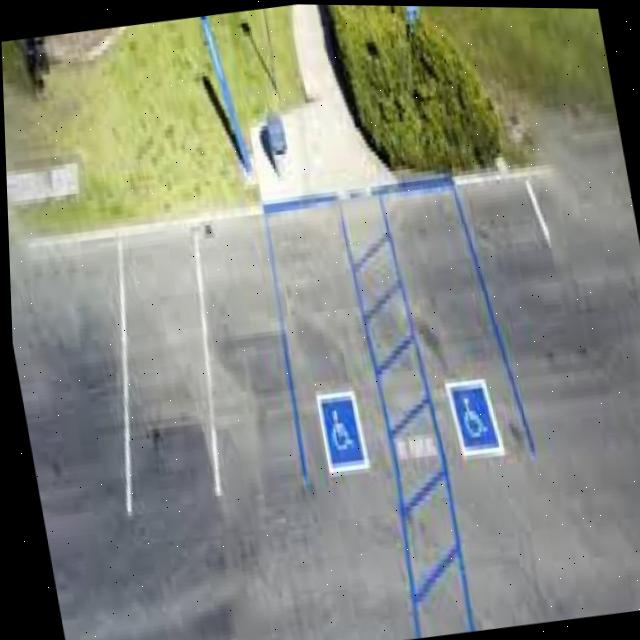symbol_of_access: (316, 393, 360, 468), (449, 379, 492, 451)
